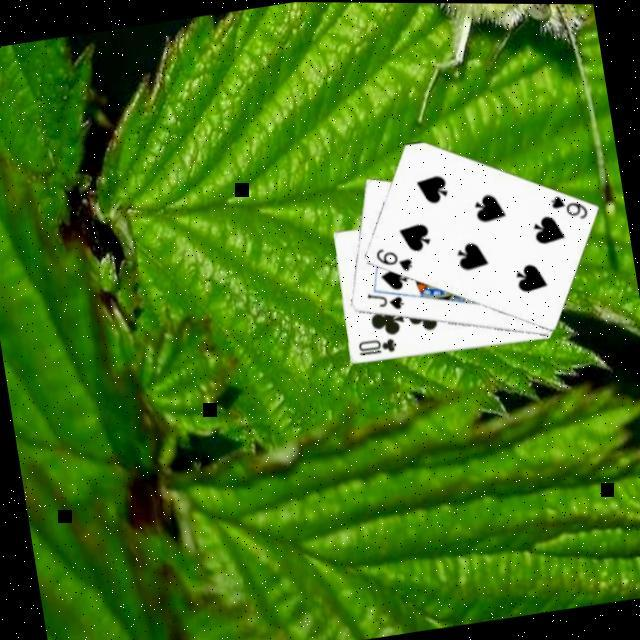10C: (354, 332, 402, 358)
6S: (546, 187, 592, 224), (372, 240, 416, 278)
JS: (365, 284, 408, 316)
